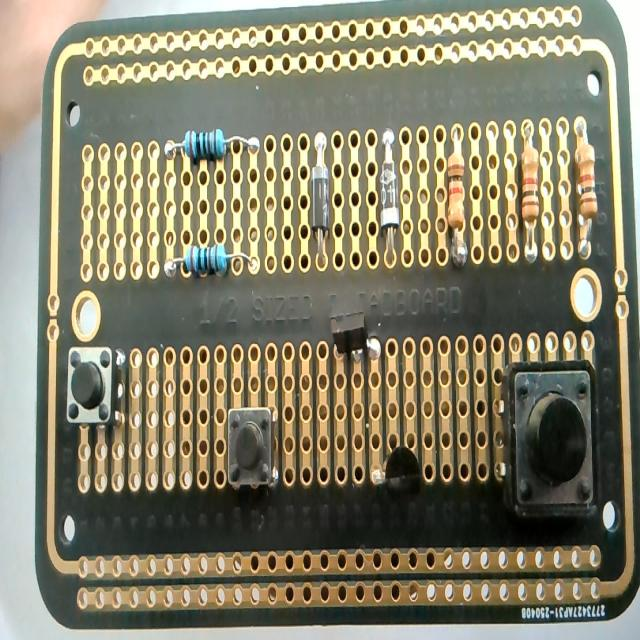diode: (447, 128, 467, 267), (310, 133, 330, 267), (380, 129, 400, 262)
resistor: (164, 127, 256, 162), (163, 245, 255, 279), (575, 121, 597, 256), (521, 130, 541, 264)
switch: (500, 358, 599, 519), (66, 346, 118, 426), (226, 406, 276, 489)
transistor: (328, 288, 378, 367), (372, 445, 422, 489)
